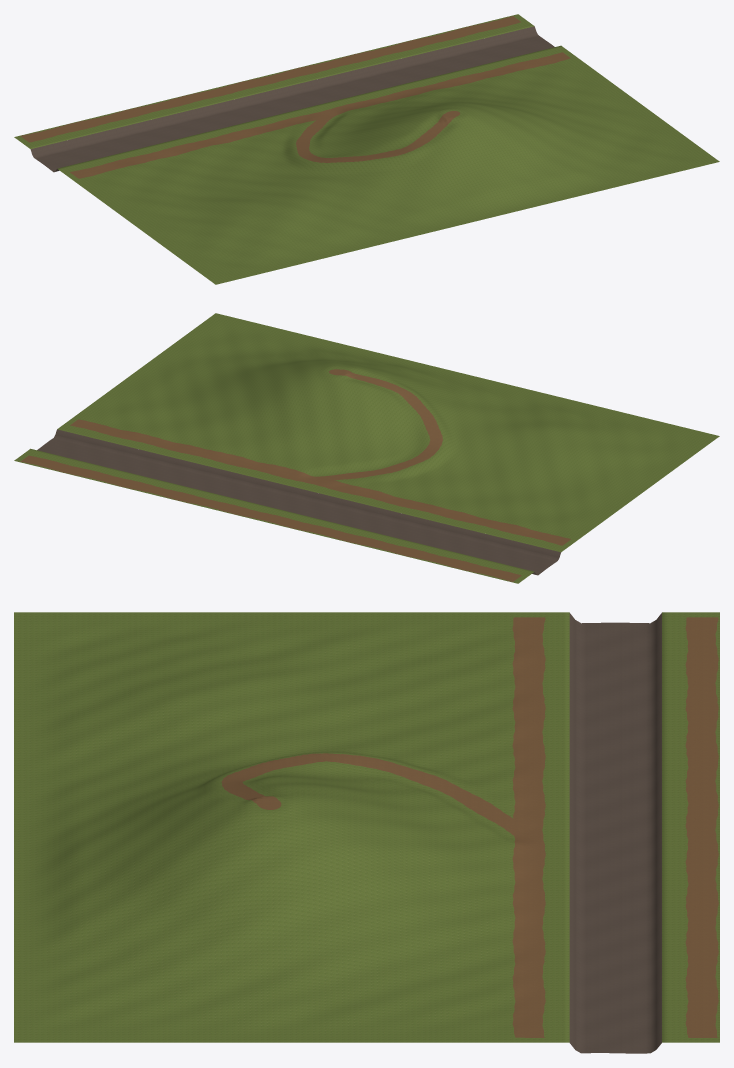
The model's file is expansion-terrain.glb.
The picture shows the model from 3 angles, top to bottom: view 1: azimuth 30°, elevation 25°; view 2: azimuth 150°, elevation 25°; view 3: azimuth 270°, elevation 25°; orthographic projection. The views are drawn at different scales.
Parts seen in each view (by area): view 1: Expansion_Heightfield_Ground, River_North_Walkway, River_South_Walkway, Hill_Ascent_Trail; view 2: Expansion_Heightfield_Ground, River_South_Walkway, River_North_Walkway, Hill_Ascent_Trail; view 3: Expansion_Heightfield_Ground, River_North_Walkway, River_South_Walkway, Hill_Ascent_Trail.
Part boxes in pixels (bbox=[...]): Expansion_Heightfield_Ground: bbox=[14, 14, 719, 284]; River_North_Walkway: bbox=[20, 16, 520, 142]; River_South_Walkway: bbox=[70, 52, 570, 178]; Hill_Ascent_Trail: bbox=[296, 112, 456, 162]; Expansion_Heightfield_Ground: bbox=[14, 313, 719, 583]; River_South_Walkway: bbox=[70, 419, 570, 545]; River_North_Walkway: bbox=[21, 455, 521, 581]; Hill_Ascent_Trail: bbox=[315, 369, 442, 481]; Expansion_Heightfield_Ground: bbox=[14, 612, 719, 1053]; River_North_Walkway: bbox=[685, 617, 718, 1037]; River_South_Walkway: bbox=[512, 617, 545, 1037]; Hill_Ascent_Trail: bbox=[221, 753, 529, 835].
Size of the model in its own units: 88 by 7.98 by 61.
3 materials, 3 textured.
